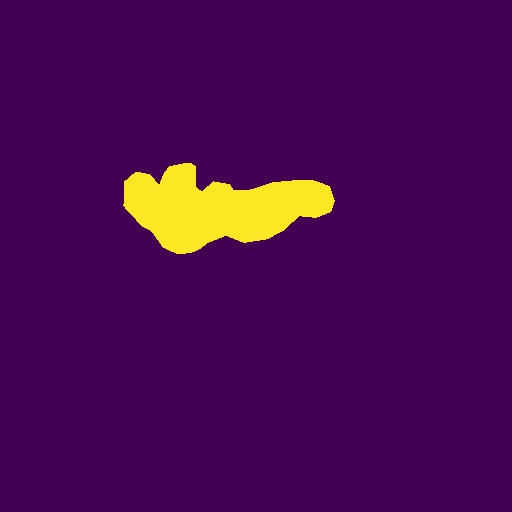Gliomia_tumour: (123, 163, 335, 254)
